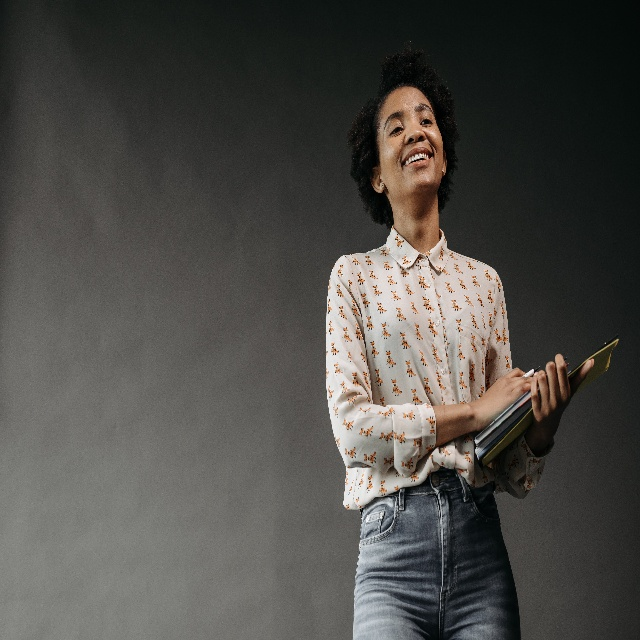Sin_guantes: (530, 351, 594, 440), (473, 365, 532, 430)
